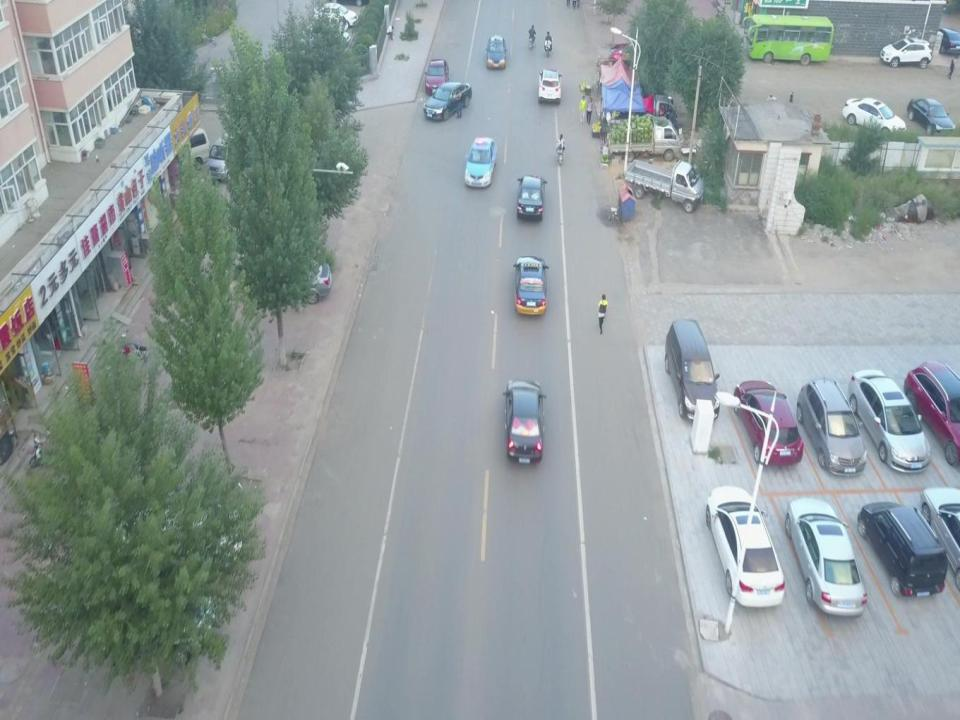bus: (742, 13, 834, 66)
car: (63, 568, 217, 666), (108, 493, 244, 575), (784, 498, 868, 617), (705, 485, 785, 609), (856, 500, 948, 598), (848, 368, 932, 473), (796, 378, 868, 476), (733, 380, 804, 468), (903, 359, 960, 468), (664, 319, 720, 422), (920, 487, 960, 596), (250, 257, 332, 304), (503, 379, 547, 466), (842, 97, 906, 137), (513, 256, 549, 316), (906, 98, 956, 136), (423, 82, 472, 120), (464, 136, 497, 188), (880, 38, 932, 68), (517, 175, 547, 220), (301, 21, 351, 46), (312, 2, 359, 28), (609, 42, 653, 67), (424, 59, 450, 96), (538, 68, 562, 105), (929, 27, 960, 55), (314, 11, 350, 33), (485, 35, 507, 69)
truck: (624, 159, 704, 213), (606, 116, 682, 163), (601, 95, 677, 133)
van: (207, 127, 262, 183), (155, 124, 211, 172)
